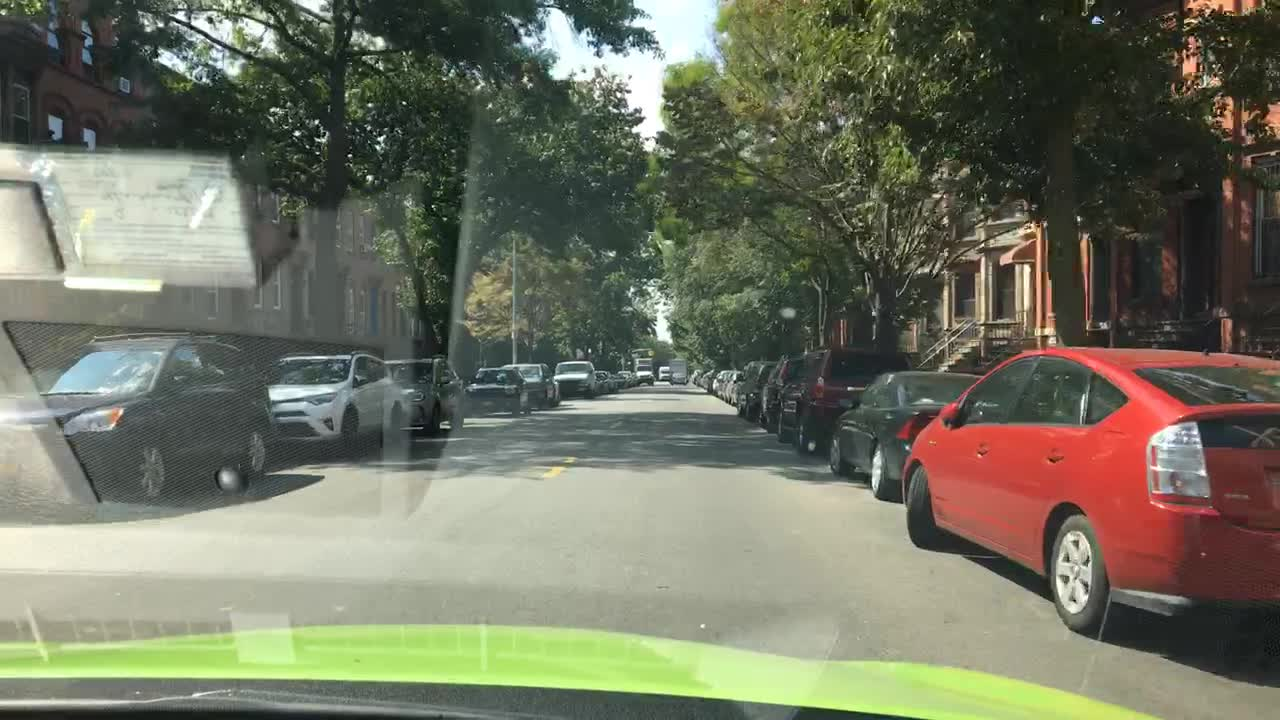car: (901, 345, 1279, 633), (1, 329, 277, 500), (828, 373, 978, 498), (259, 351, 409, 451), (777, 344, 903, 451), (388, 359, 466, 432), (754, 355, 808, 428), (462, 367, 529, 414), (731, 360, 782, 418), (504, 364, 558, 409), (552, 358, 602, 396), (719, 373, 740, 397), (594, 370, 614, 391), (696, 368, 714, 386), (712, 372, 726, 392), (621, 370, 636, 386), (691, 369, 701, 384), (613, 374, 625, 386)
truck: (667, 356, 690, 384), (635, 358, 654, 382), (658, 365, 671, 381)
